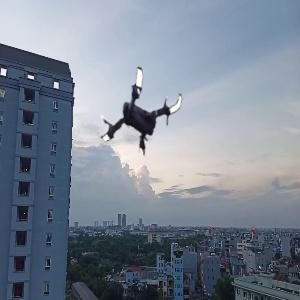drone: (88, 67, 189, 168)
